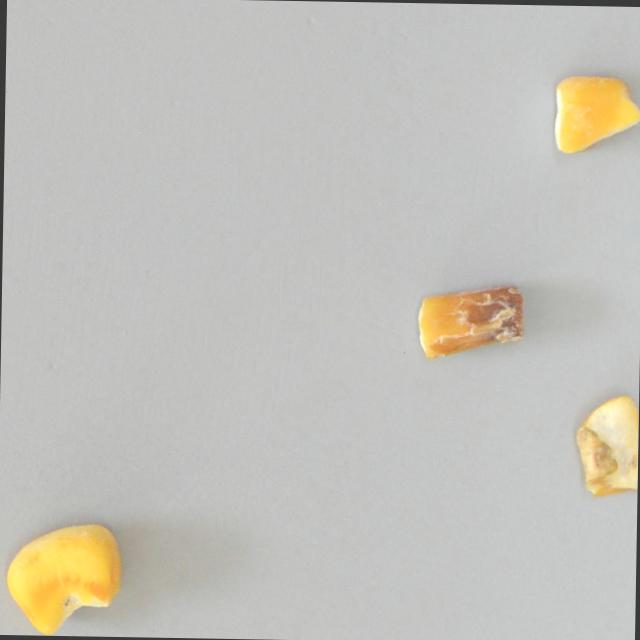dañado: (0, 513, 127, 637), (409, 278, 531, 364), (548, 67, 640, 159), (571, 387, 639, 509)
